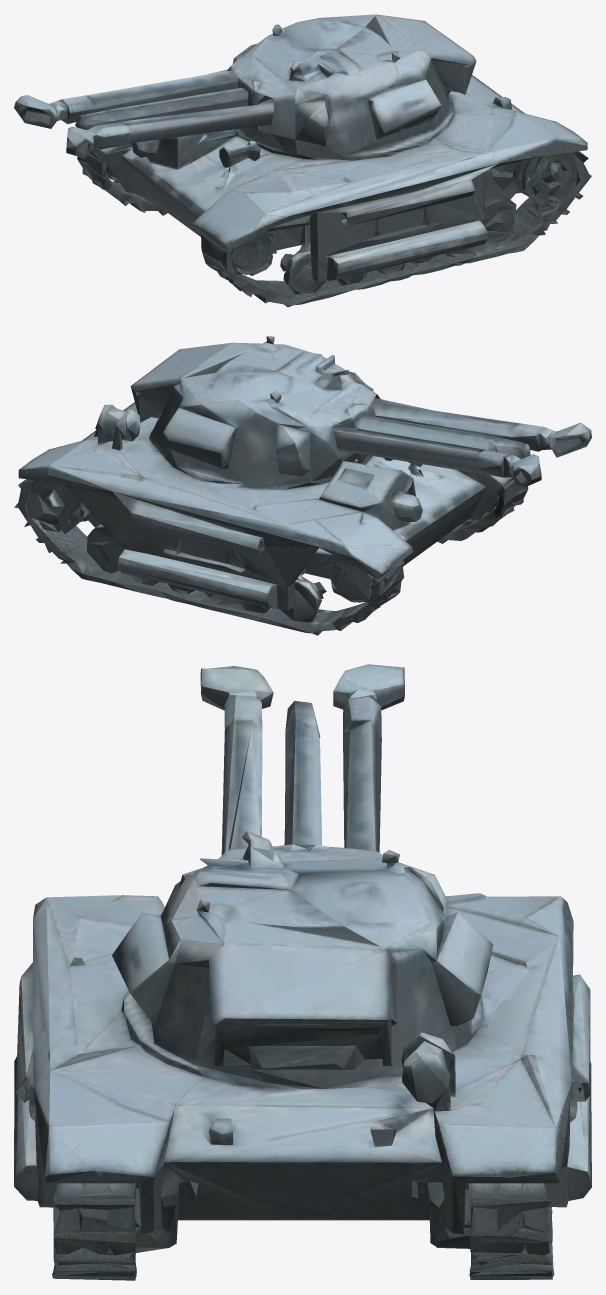
Rendered from mx_sg_barricade.glb.
3 renders of one model, top to bottom at view 1: azimuth 30°, elevation 25°; view 2: azimuth 150°, elevation 25°; view 3: azimuth 270°, elevation 25°, orthographic. The views are drawn at different scales.
Bounding box in the file's own units: 1.9 × 0.7122 × 1.2.
1 material, 1 textured.
